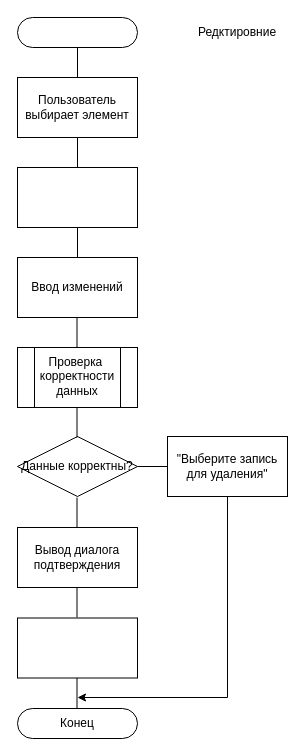
This 305x756 diagram has some shape labels left out. Each missing label, with the centre of its shape:
"Начало" belongs at pixel 77 32.
"Отобрaзить текущие дaнные" belongs at pixel 77 197.
"Получение id выделенной записи" belongs at pixel 77 647.
